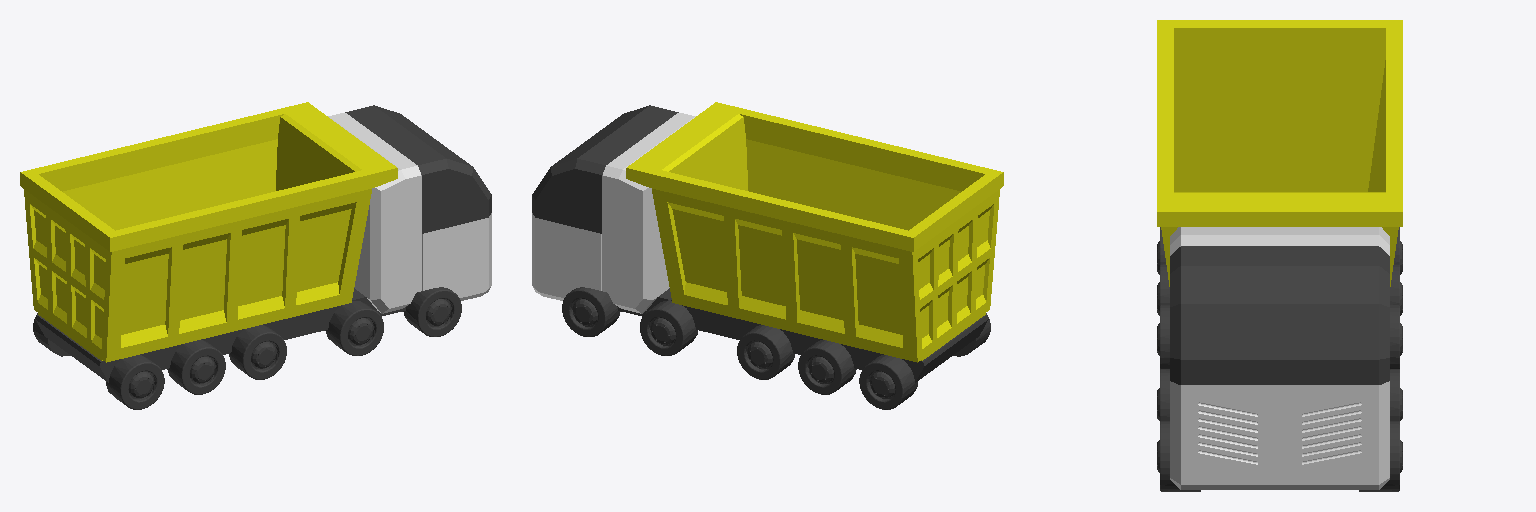
robot.urdf — kamyon:
<?xml version="1.0" encoding="utf-8"?>
<!-- This URDF was automatically created by SolidWorks to URDF Exporter! Originally created by Stephen Brawner (brawner@gmail.com) 
     Commit Version: 1.6.0-4-g7f85cfe  Build Version: 1.6.7995.38578
     For more information, please see http://wiki.ros.org/sw_urdf_exporter -->
<robot
  name="kamyon">
  <link
    name="kamyon_sasi">
    <inertial>
      <origin
        xyz="-0.03713 0.061767 1.0529E-15"
        rpy="0 0 0" />
      <mass
        value="54.71" />
      <inertia
        ixx="0.46006"
        ixy="-0.080279"
        ixz="5.93E-15"
        iyy="2.4002"
        iyz="3.1818E-15"
        izz="2.1019" />
    </inertial>
    <visual>
      <origin
        xyz="0 0 0"
        rpy="0 0 0" />
      <geometry>
        <mesh
          filename="package://kamyon/meshes/kamyon_sasi.STL" />
      </geometry>
      <material
        name="">
        <color
          rgba="0.3 0.3 0.3 1" />
      </material>
    </visual>
    <collision>
      <origin
        xyz="0 0 0"
        rpy="0 0 0" />
      <geometry>
        <mesh
          filename="package://kamyon/meshes/kamyon_sasi.STL" />
      </geometry>
    </collision>
  </link>
  <link
    name="kamyon_kasa">
    <inertial>
      <origin
        xyz="-0.002355 -8.2293E-16 0.09596"
        rpy="0 0 0" />
      <mass
        value="10.506" />
      <inertia
        ixx="0.17224"
        ixy="4.7533E-16"
        ixz="-0.013304"
        iyy="0.33738"
        iyz="2.934E-17"
        izz="0.39088" />
    </inertial>
    <visual>
      <origin
        xyz="0 0 0"
        rpy="0 0 0" />
      <geometry>
        <mesh
          filename="package://kamyon/meshes/kamyon_kasa.STL" />
      </geometry>
      <material
        name="">
        <color
          rgba="0.9 0.9 0.1 1" />
      </material>
    </visual>
    <collision>
      <origin
        xyz="0 0 0"
        rpy="0 0 0" />
      <geometry>
        <mesh
          filename="package://kamyon/meshes/kamyon_kasa.STL" />
      </geometry>
    </collision>
  </link>
  <joint
    name="joint_kasa"
    type="fixed">
    <origin
      xyz="-0.12718 0 0.08"
      rpy="0 0 0" />
    <parent
      link="kamyon_sasi" />
    <child
      link="kamyon_kasa" />
    <axis
      xyz="0 0 0" />
  </joint>
  <link
    name="kamyon_kupa">
    <inertial>
      <origin
        xyz="-0.011543 -9.2883E-16 0.070709"
        rpy="0 0 0" />
      <mass
        value="6.9933" />
      <inertia
        ixx="0.092084"
        ixy="-5.5632E-17"
        ixz="0.02008"
        iyy="0.077981"
        iyz="4.824E-17"
        izz="0.0953" />
    </inertial>
    <visual>
      <origin
        xyz="0 0 0"
        rpy="0 0 0" />
      <geometry>
        <mesh
          filename="package://kamyon/meshes/kamyon_kupa.STL" />
      </geometry>
      <material
        name="">
        <color
          rgba="0.9 0.9 0.9 1" />
      </material>
    </visual>
    <collision>
      <origin
        xyz="0 0 0"
        rpy="0 0 0" />
      <geometry>
        <mesh
          filename="package://kamyon/meshes/kamyon_kupa.STL" />
      </geometry>
    </collision>
  </link>
  <joint
    name="joint_kupa"
    type="fixed">
    <origin
      xyz="0.35405 0 0"
      rpy="0 0 0" />
    <parent
      link="kamyon_kasa" />
    <child
      link="kamyon_kupa" />
    <axis
      xyz="0 0 0" />
  </joint>
  <link
    name="kamyon_cam">
    <inertial>
      <origin
        xyz="0.012687 -1.8762E-15 0.050267"
        rpy="0 0 0" />
      <mass
        value="1.8507" />
      <inertia
        ixx="0.02373"
        ixy="1.1604E-19"
        ixz="0.0010759"
        iyy="0.0084887"
        iyz="1.1195E-17"
        izz="0.024871" />
    </inertial>
    <visual>
      <origin
        xyz="0 0 0"
        rpy="0 0 0" />
      <geometry>
        <mesh
          filename="package://kamyon/meshes/kamyon_cam.STL" />
      </geometry>
      <material
        name="">
        <color
          rgba="0.3 0.3 0.3 1" />
      </material>
    </visual>
    <collision>
      <origin
        xyz="0 0 0"
        rpy="0 0 0" />
      <geometry>
        <mesh
          filename="package://kamyon/meshes/kamyon_cam.STL" />
      </geometry>
    </collision>
  </link>
  <joint
    name="joint_cam"
    type="fixed">
    <origin
      xyz="0.019053 0 0.098354"
      rpy="0 0 0" />
    <parent
      link="kamyon_kupa" />
    <child
      link="kamyon_cam" />
    <axis
      xyz="0 0 0" />
  </joint>
</robot>

--- What the picture shows (computed from the rendered views, not written in the file) ---
The picture shows the robot from 3 angles, left to right: view 1: azimuth 30°, elevation 25°; view 2: azimuth 150°, elevation 25°; view 3: azimuth 270°, elevation 25°; orthographic projection.
Model kamyon with 4 links and 3 joints (3 fixed), rooted at kamyon_sasi, posed every joint at zero.
Visible links, largest first — view 1: kamyon_kasa, kamyon_sasi, kamyon_kupa, kamyon_cam; view 2: kamyon_kasa, kamyon_sasi, kamyon_kupa, kamyon_cam; view 3: kamyon_kasa, kamyon_cam, kamyon_kupa, kamyon_sasi.
Link boxes in pixels (x1=…): kamyon_kasa: x1=20, y1=102, x2=397, y2=362; kamyon_sasi: x1=33, y1=287, x2=461, y2=409; kamyon_kupa: x1=328, y1=113, x2=491, y2=313; kamyon_cam: x1=345, y1=105, x2=491, y2=233; kamyon_kasa: x1=626, y1=102, x2=1003, y2=362; kamyon_sasi: x1=562, y1=287, x2=990, y2=409; kamyon_kupa: x1=532, y1=113, x2=695, y2=313; kamyon_cam: x1=532, y1=105, x2=678, y2=233; kamyon_kasa: x1=1157, y1=20, x2=1402, y2=286; kamyon_cam: x1=1170, y1=246, x2=1389, y2=384; kamyon_kupa: x1=1170, y1=227, x2=1389, y2=489; kamyon_sasi: x1=1157, y1=227, x2=1402, y2=491.
Bounding box of the posed robot: 0.7 × 0.28 × 0.31 m (x, y, z).
Meshes: 4 distinct files referenced, 4 mesh visuals loaded (4 binary STL).
